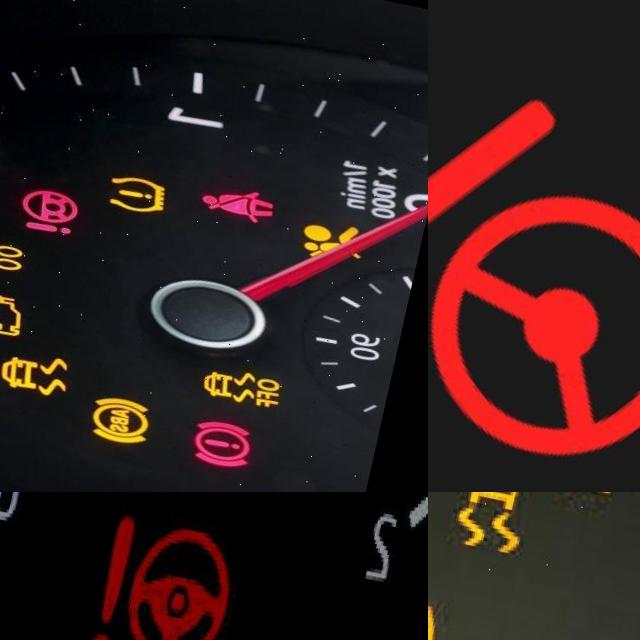Electronic Power Steering: (103, 500, 252, 640)
Electronic Power Steering Warning: (26, 172, 93, 226)
Seat Belt: (209, 163, 290, 210)
